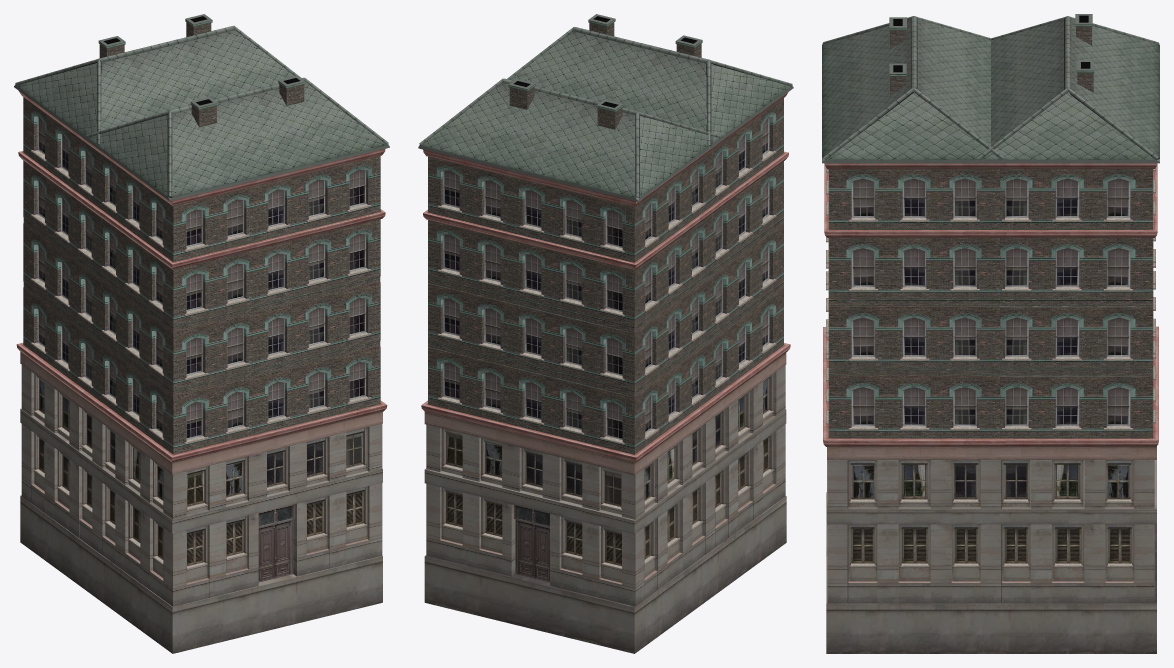
The model's file is dbrick.glb.
The picture shows the model from 3 angles, left to right: view 1: azimuth 30°, elevation 25°; view 2: azimuth 150°, elevation 25°; view 3: azimuth 270°, elevation 25°; orthographic projection. The views are drawn at different scales.
Parts seen in each view (by area): view 1: Floorshape_0, Roof_1; view 2: Floorshape_0, Roof_1; view 3: Floorshape_0, Roof_1.
Part boxes in pixels (left/top/right/bottom): Floorshape_0: left=16, top=97, right=387, bottom=653; Roof_1: left=14, top=14, right=389, bottom=206; Floorshape_0: left=421, top=98, right=790, bottom=653; Roof_1: left=418, top=14, right=793, bottom=206; Floorshape_0: left=823, top=163, right=1158, bottom=653; Roof_1: left=822, top=14, right=1159, bottom=169.
Size of the model in its own units: 11.81 by 26.12 by 14.42.
Materials: 1 (1 with a texture image).
